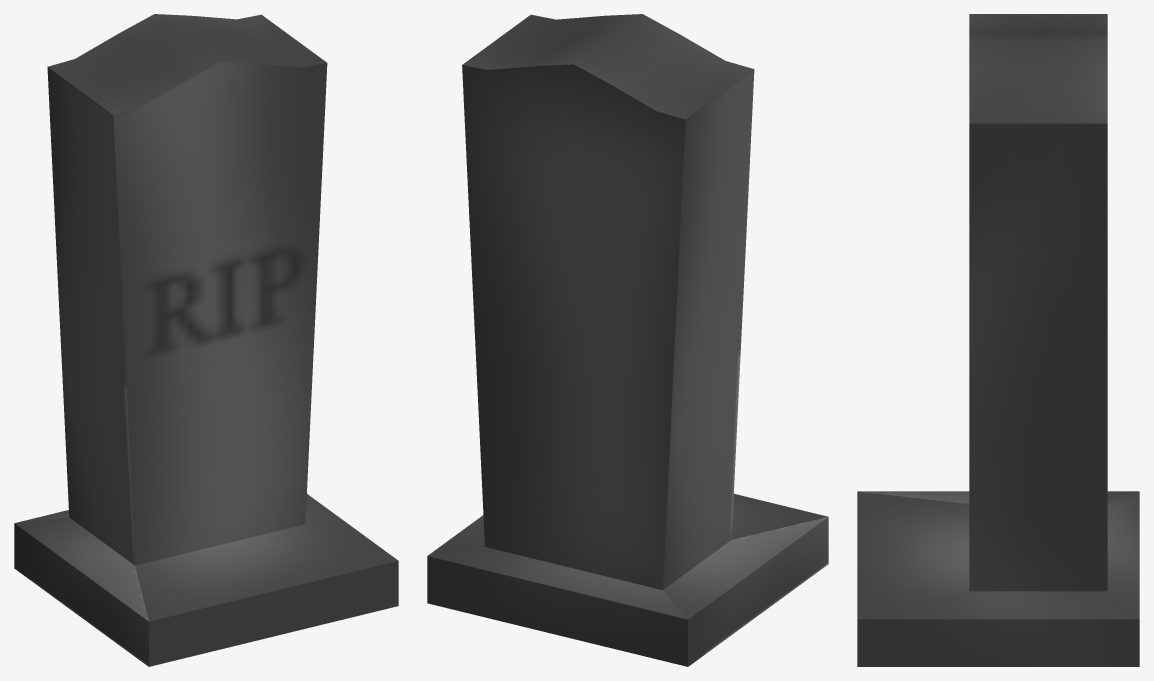
The model's file is Tumulo_5.glb.
3 renders of one model, left to right at view 1: azimuth 30°, elevation 25°; view 2: azimuth 150°, elevation 25°; view 3: azimuth 270°, elevation 25°, orthographic. The views are drawn at different scales.
Parts seen in each view (by area): view 1: Tumulo.5; view 2: Tumulo.5; view 3: Tumulo.5.
Part boxes in pixels (x1=…): Tumulo.5: x1=14, y1=14, x2=398, y2=666; Tumulo.5: x1=427, y1=14, x2=828, y2=666; Tumulo.5: x1=857, y1=14, x2=1139, y2=666.
Size of the model in its own units: 0.3881 by 0.795 by 0.3621.
Materials: 1 (1 with a texture image).
